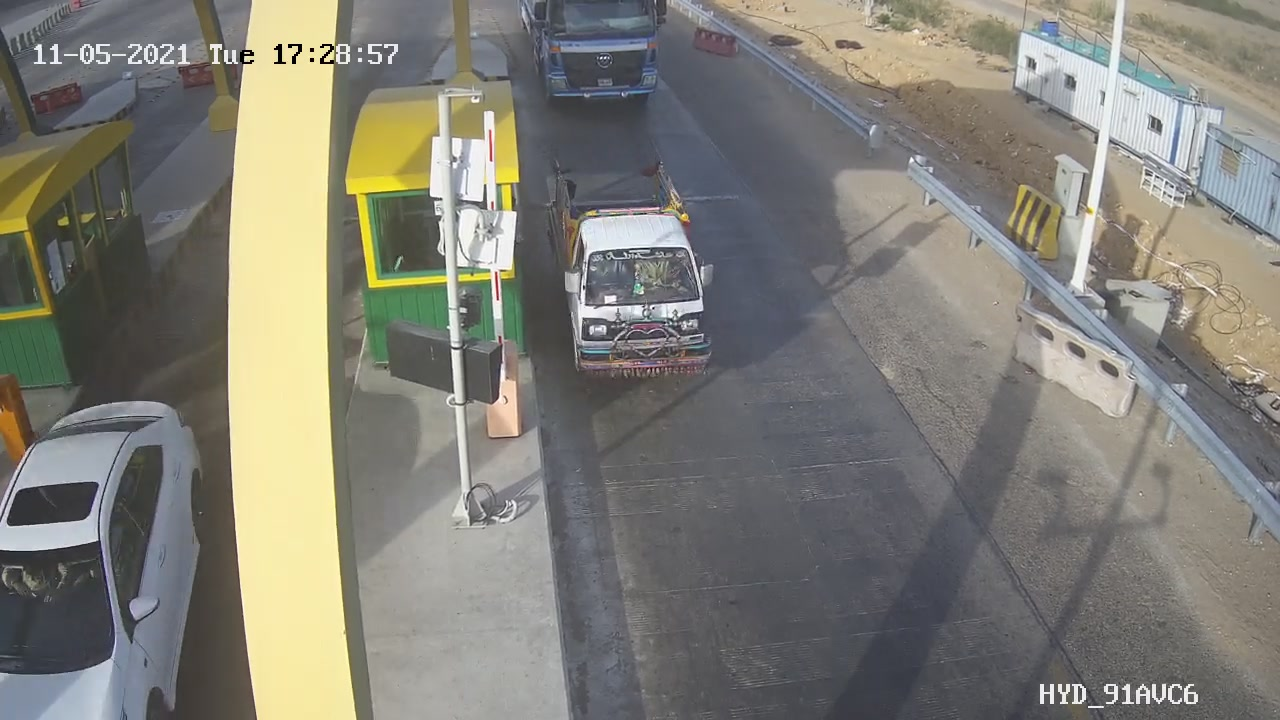F1: (542, 146, 721, 399)
